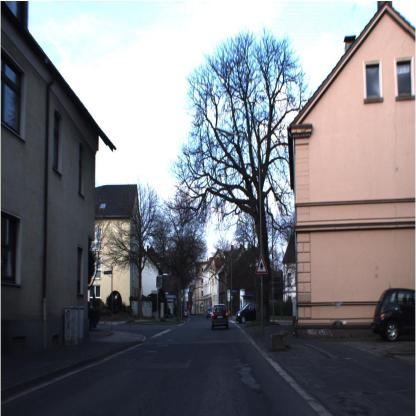danger: (252, 252, 268, 278)
